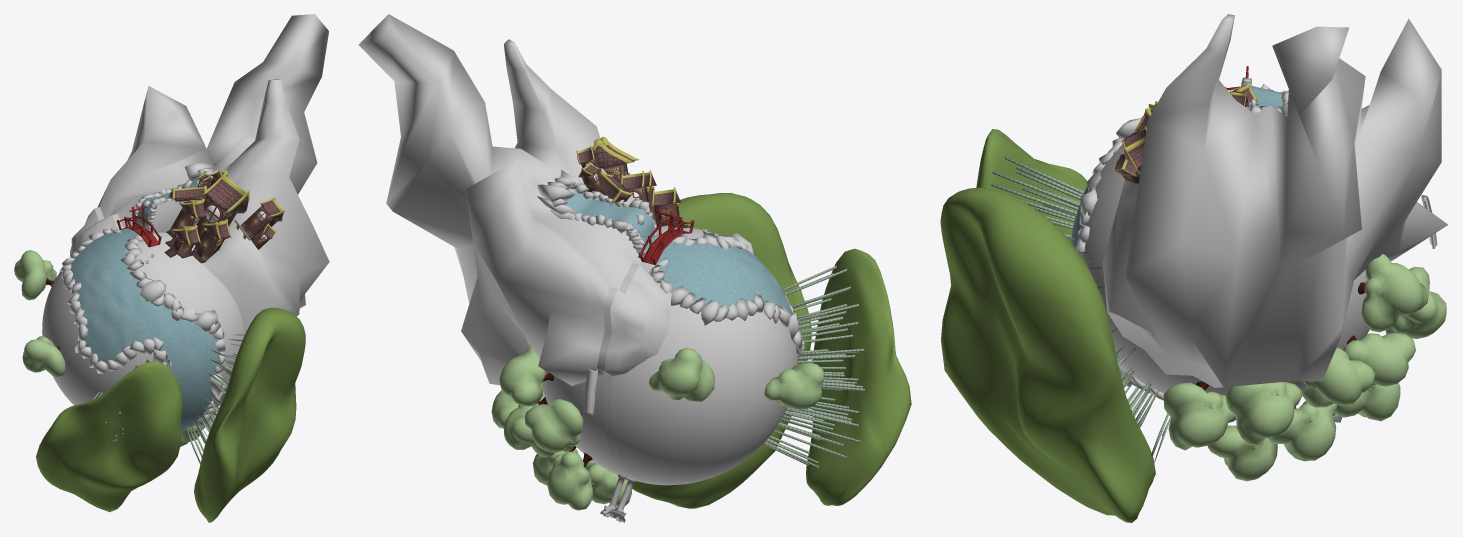
The model's file is 1rplaneta.fbx.
3 views of the same model, side by side, from view 1: azimuth 30°, elevation 25°; view 2: azimuth 150°, elevation 25°; view 3: azimuth 270°, elevation 25° (orthographic). The views are drawn at different scales.
Parts seen in each view (by area): view 1: camino.003, Cylinder.004, Cylinder.002, Sphere.002, Sphere.005, Sphere.001, Sphere, templo3, templo9, arbol.006, arbol.005, Cylinder.001 (+6 smaller); view 2: camino.003, Sphere.001, Cylinder.004, Cylinder.002, Cylinder.003, Sphere.002, camino.002, Sphere.005, Sphere, Roca.008, arbol.006, arbol (+12 smaller); view 3: camino.003, Cylinder.002, Sphere, Cylinder.004, arbol.007, arbol.010, arbol.009, arbol.001, arbol.008, arbol.003, Cylinder.003, arbol.004 (+5 smaller).
Part boxes in pixels (left/top/right/bottom): camino.003: left=97, top=14, right=329, bottom=334; Cylinder.004: left=36, top=361, right=182, bottom=512; Cylinder.002: left=194, top=307, right=305, bottom=522; Sphere.002: left=67, top=229, right=218, bottom=430; Sphere.005: left=60, top=227, right=226, bottom=428; Sphere.001: left=42, top=229, right=184, bottom=405; Sphere: left=153, top=232, right=244, bottom=409; templo3: left=164, top=198, right=231, bottom=263; templo9: left=194, top=172, right=249, bottom=245; arbol.006: left=14, top=250, right=56, bottom=300; arbol.005: left=22, top=336, right=65, bottom=377; Cylinder.001: left=185, top=334, right=244, bottom=464; camino.003: left=358, top=14, right=658, bottom=392; Sphere.001: left=610, top=230, right=798, bottom=485; Cylinder.004: left=806, top=248, right=911, bottom=505; Cylinder.002: left=632, top=193, right=811, bottom=508; Cylinder.003: left=763, top=265, right=864, bottom=467; Sphere.002: left=654, top=240, right=792, bottom=316; camino.002: left=604, top=265, right=671, bottom=376; Sphere.005: left=648, top=233, right=804, bottom=481; Sphere: left=542, top=225, right=694, bottom=480; Roca.008: left=537, top=170, right=657, bottom=257; arbol.006: left=648, top=347, right=714, bottom=401; arbol: left=524, top=399, right=583, bottom=452; camino.003: left=1102, top=14, right=1448, bottom=387; Cylinder.002: left=940, top=187, right=1155, bottom=522; Sphere: left=1080, top=151, right=1369, bottom=395; Cylinder.004: left=976, top=129, right=1087, bottom=241; arbol.007: left=1163, top=381, right=1236, bottom=450; arbol.010: left=1358, top=254, right=1428, bottom=332; arbol.009: left=1226, top=382, right=1302, bottom=444; arbol.001: left=1343, top=332, right=1415, bottom=386; arbol.008: left=1303, top=347, right=1375, bottom=407; arbol.003: left=1268, top=401, right=1337, bottom=461; Cylinder.003: left=991, top=156, right=1084, bottom=238; arbol.004: left=1207, top=425, right=1277, bottom=481.
Size of the model in its own units: 4.02 by 4.3 by 3.22.
